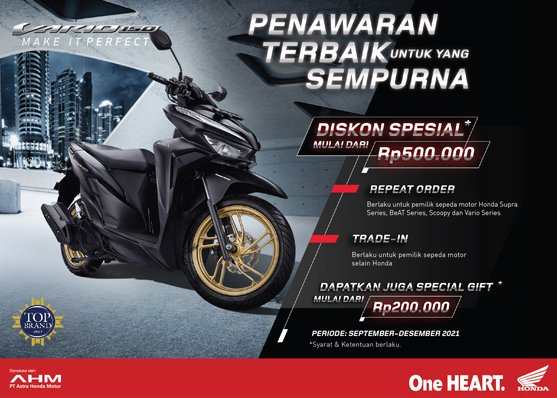motor: (43, 80, 295, 308)
